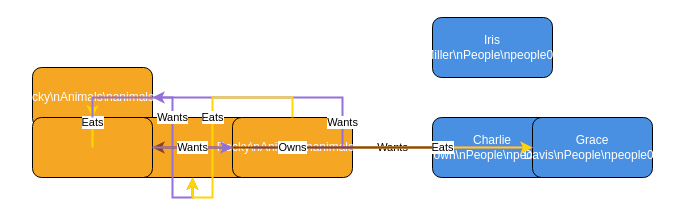
This 678x224 diagram has some shape labels left out. The shapes that lost their labels are listed below. From the top down, each one's centre as x and y in pixels, then its label:
At (x=92, y=147): "Bella\nAnimals\nanimals02".
At (x=192, y=147): "Bongo\nAnimals\nanimals03".
